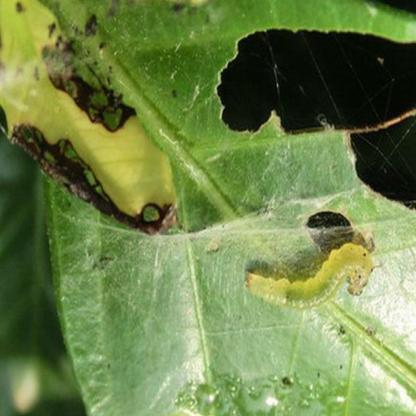leaf-folder: (233, 219, 379, 327)
